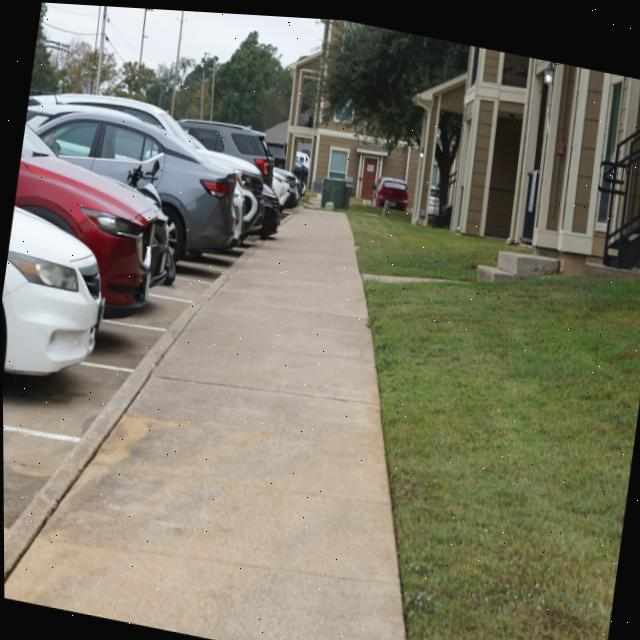Automobile: (2, 93, 302, 374), (369, 173, 408, 205)
Road: (2, 249, 238, 535)
Sidewalk: (3, 206, 406, 640)
